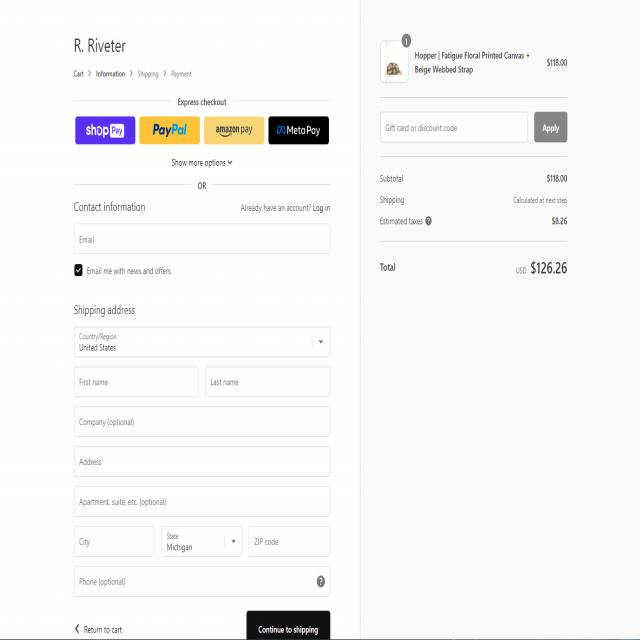sneaking: (67, 166, 355, 304), (372, 185, 572, 210), (70, 257, 192, 291)
